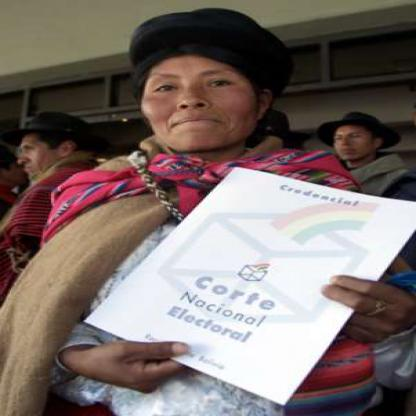face: (138, 23, 261, 154), (3, 122, 64, 183), (329, 120, 378, 163)
